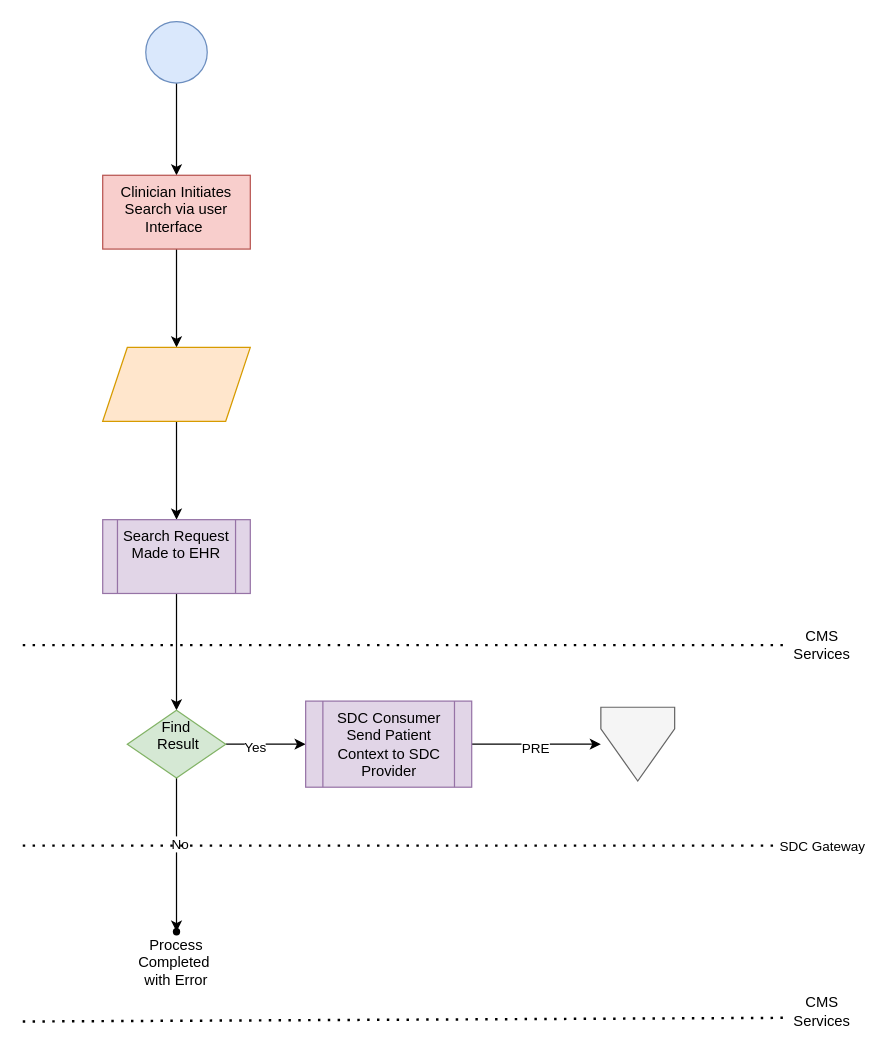
The diagram is 886 pixels wide and 1052 high, and some of its shapes have lost their labels. The shapes that lost their labels are listed below. From the top down, each one's box as (x1, y1, x2, y2) in pixels, then its label:
(101, 346, 250, 421): Input Details (Patient Id, First Name, etc)
(600, 706, 675, 781): Patient Admission
